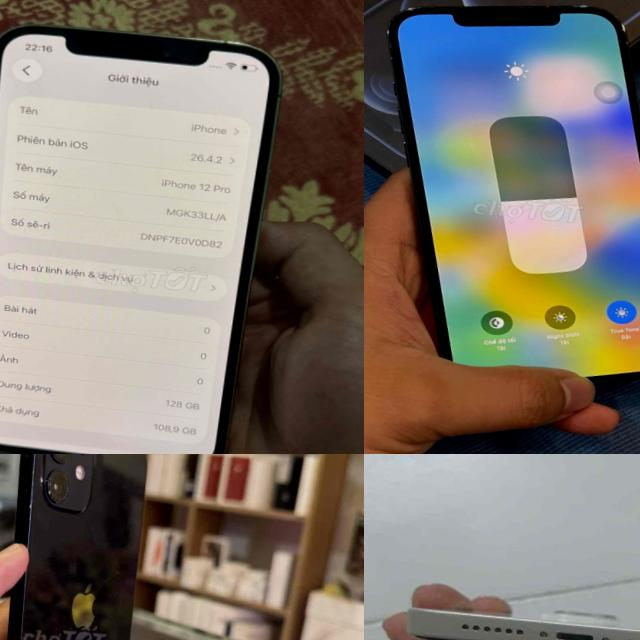gen_12_13: (0, 13, 283, 454), (364, 0, 640, 398), (0, 454, 159, 640)
gen_14: (383, 585, 640, 640)
